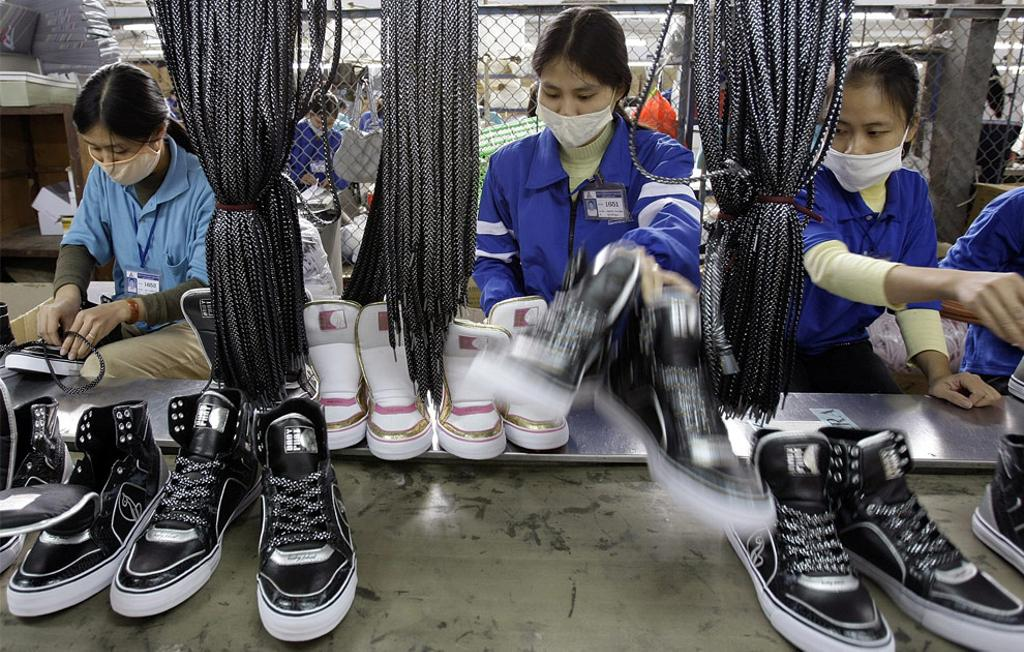face_mask: (828, 84, 900, 182), (536, 54, 604, 142), (88, 116, 142, 184)
